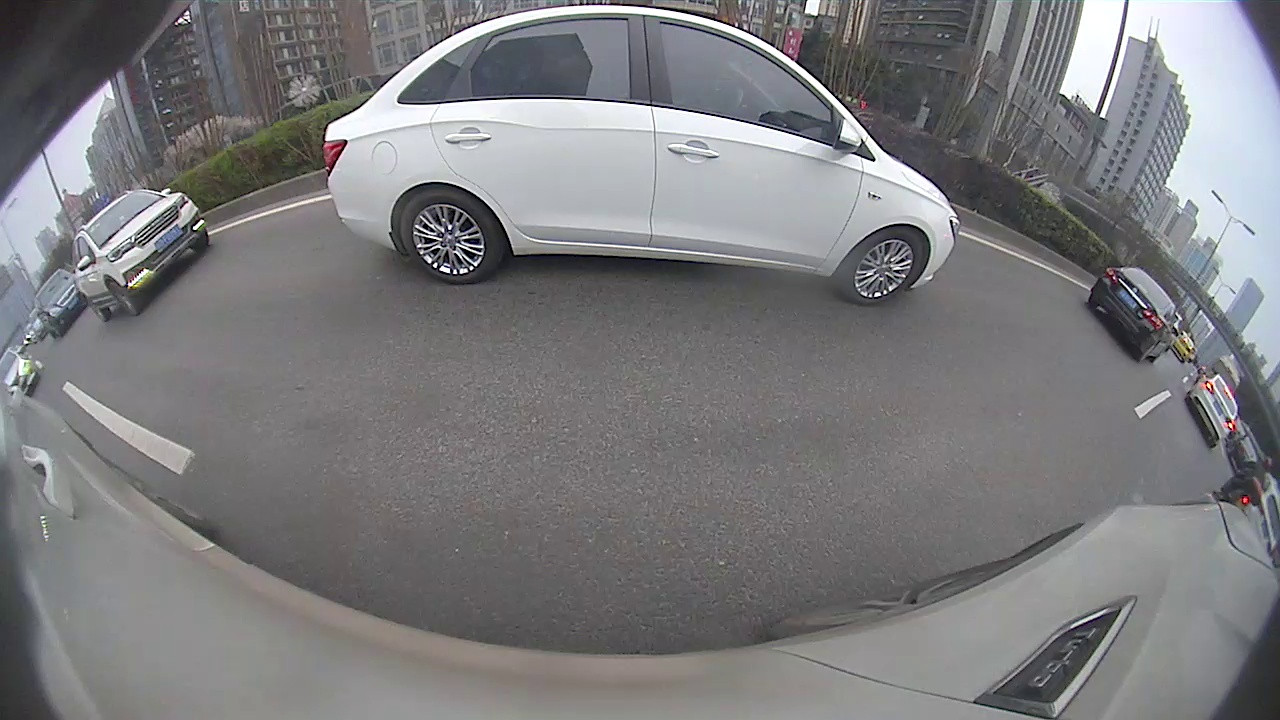bus: (899, 139, 1144, 279), (780, 146, 855, 185), (398, 162, 488, 189)
car: (9, 193, 292, 415), (798, 160, 908, 219), (690, 155, 748, 194), (329, 185, 398, 215), (748, 160, 775, 185), (621, 161, 648, 183)
front: (907, 193, 928, 215), (798, 184, 811, 202)
rear: (987, 211, 1013, 249), (834, 189, 848, 212)
